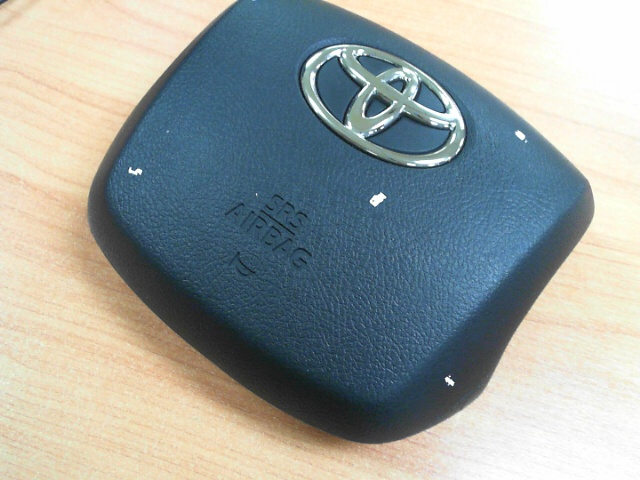Airbag: (368, 191, 388, 209), (514, 129, 528, 145), (127, 166, 144, 177), (445, 375, 455, 387)
